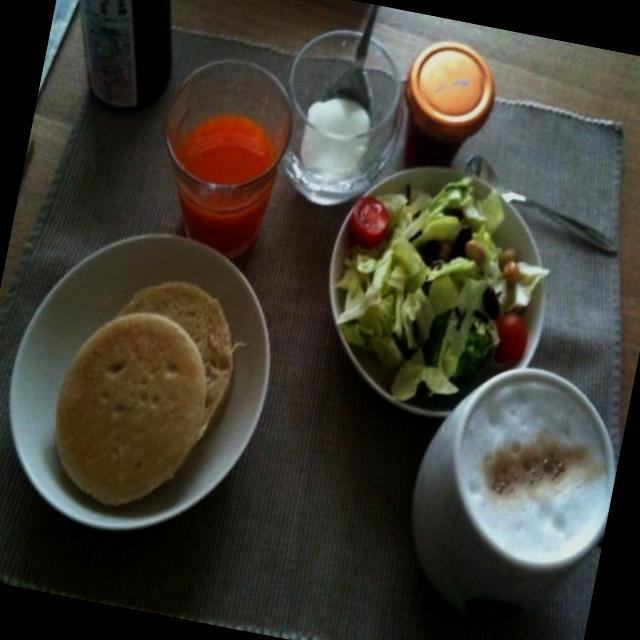Green Salad: (306, 148, 570, 444)
